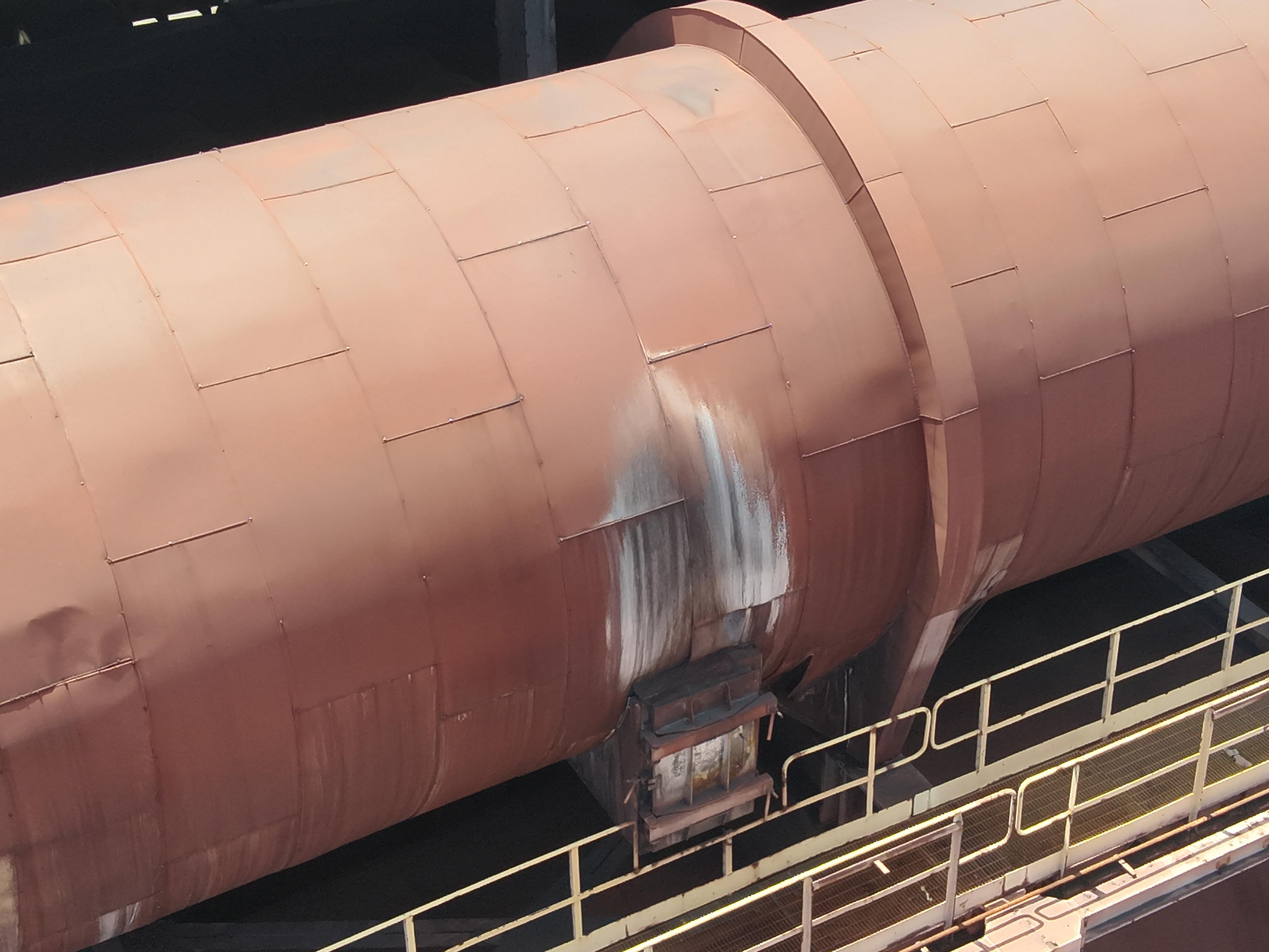Failures: (655, 422, 841, 752)
